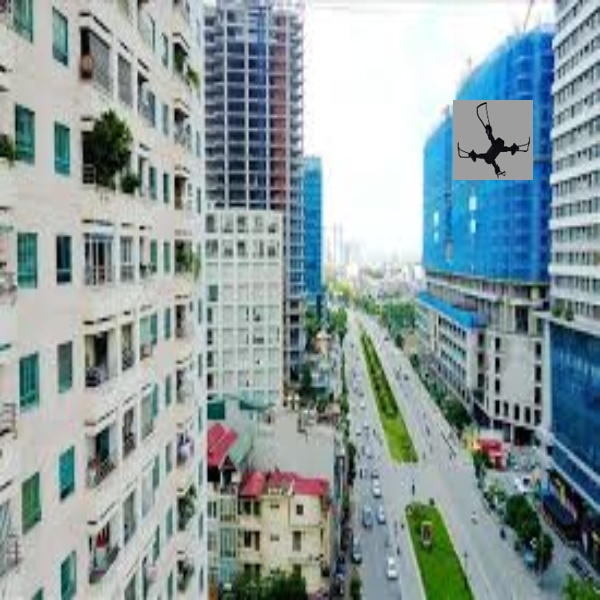drone: (457, 98, 531, 176)
